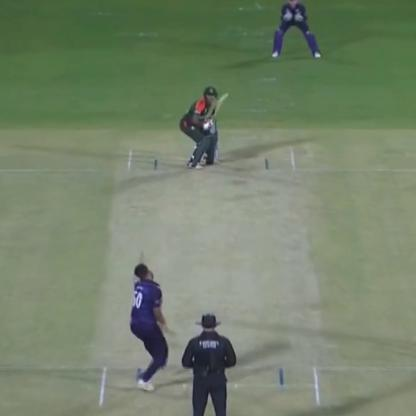bat: (199, 82, 233, 118)
pitch: (93, 136, 326, 416)
